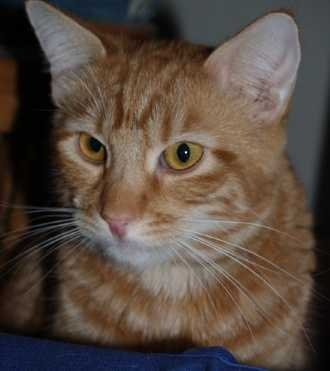Cat: (0, 0, 315, 368)
